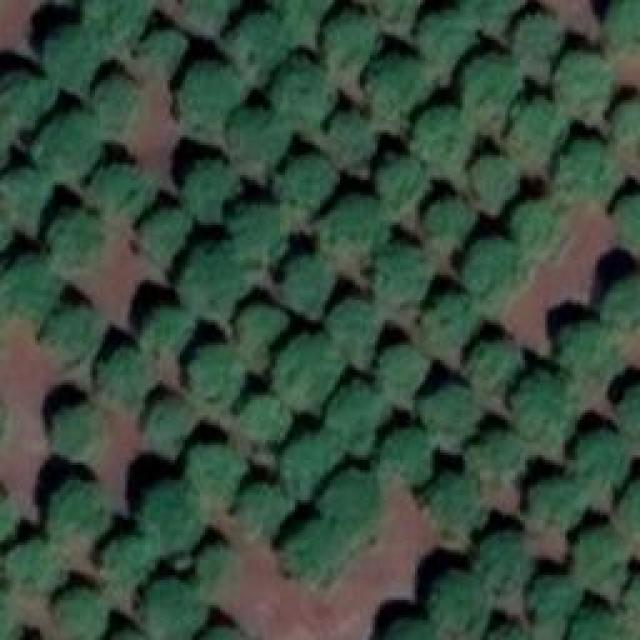Tree: (508, 370, 578, 443), (275, 332, 340, 410), (135, 472, 208, 540), (263, 58, 333, 128), (35, 110, 100, 178), (460, 235, 533, 295), (367, 240, 435, 303), (178, 440, 251, 498), (410, 105, 475, 170), (178, 242, 238, 310), (325, 383, 383, 453), (315, 8, 378, 71), (45, 25, 103, 93), (277, 427, 335, 495), (0, 255, 60, 320), (175, 55, 240, 115), (320, 468, 380, 533), (80, 0, 150, 55), (223, 200, 286, 260), (415, 288, 478, 348), (423, 385, 483, 448), (223, 10, 288, 68), (330, 295, 383, 365), (427, 568, 485, 631), (50, 483, 110, 543), (183, 340, 243, 400), (85, 163, 150, 218), (0, 535, 65, 590), (365, 52, 425, 110), (225, 107, 285, 165), (505, 95, 568, 150), (92, 345, 150, 403), (567, 427, 625, 485), (43, 210, 106, 263), (283, 523, 346, 576), (0, 70, 60, 125), (550, 50, 610, 105), (378, 425, 433, 485), (147, 575, 205, 630), (528, 472, 583, 530), (375, 345, 425, 408), (280, 150, 338, 203), (562, 525, 620, 578), (460, 50, 515, 105), (553, 135, 608, 190), (50, 585, 105, 640), (558, 318, 613, 373), (465, 430, 528, 478), (323, 198, 383, 248), (510, 198, 570, 248), (45, 305, 100, 358), (143, 390, 196, 445), (238, 390, 293, 443), (375, 158, 428, 211), (45, 403, 98, 456), (468, 343, 521, 396), (423, 473, 476, 526), (177, 157, 235, 205), (100, 538, 155, 588), (420, 8, 470, 61), (135, 28, 188, 78), (513, 13, 566, 63), (425, 195, 475, 248), (478, 530, 531, 580), (242, 480, 290, 535), (140, 303, 190, 353), (278, 258, 333, 303), (465, 155, 513, 205), (238, 297, 288, 345), (0, 165, 48, 213), (137, 210, 185, 258), (193, 537, 238, 585), (527, 573, 575, 618), (90, 73, 133, 123), (567, 607, 630, 640), (602, 0, 640, 50), (180, 0, 237, 32), (607, 280, 640, 335), (330, 108, 370, 151), (610, 193, 640, 248), (450, 0, 523, 18), (610, 98, 640, 141), (382, 617, 437, 640), (0, 483, 20, 546), (620, 470, 640, 533), (617, 382, 640, 432), (372, 0, 420, 20), (622, 573, 640, 626), (275, 0, 338, 15), (0, 582, 15, 640), (190, 625, 248, 640), (482, 622, 530, 640)
